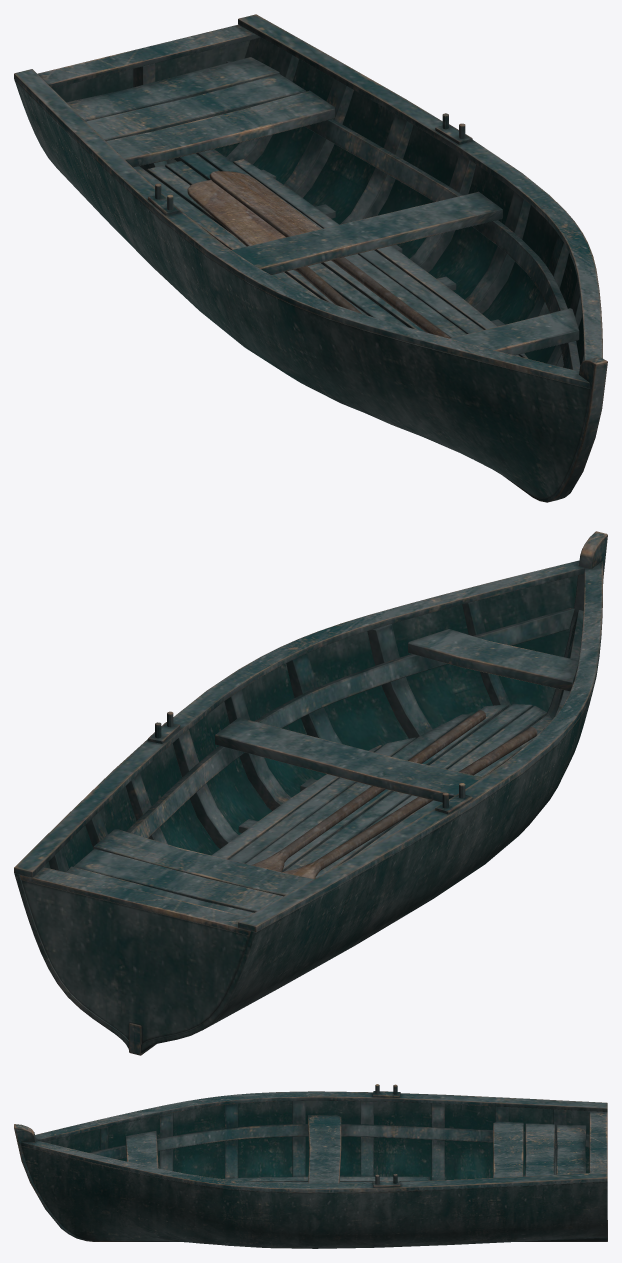
File: boat.glb
3 views of the same model, one above another, from view 1: azimuth 30°, elevation 25°; view 2: azimuth 150°, elevation 25°; view 3: azimuth 270°, elevation 25° (orthographic). The views are drawn at different scales.
Parts seen in each view (by area): view 1: Boat, Oar2, Oar1; view 2: Boat, Oar1, Oar2; view 3: Boat.
Part boxes in pixels (<box>): Boat: <box>14,14,607,502</box>; Oar2: <box>209,171,450,338</box>; Oar1: <box>187,180,361,313</box>; Boat: <box>14,531,607,1055</box>; Oar1: <box>282,727,537,878</box>; Oar2: <box>252,710,485,872</box>; Boat: <box>14,1084,607,1248</box>.
Size of the model in its own units: 236 by 129 by 604.
1 material, 1 textured.
